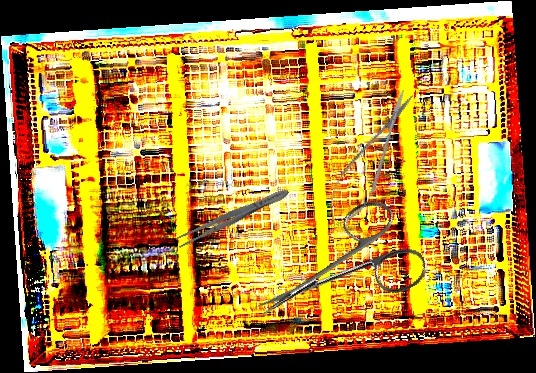Dressing Forceps: (173, 184, 292, 251)
Iris Scissors: (236, 190, 433, 357)
Micro Scissor: (316, 82, 426, 236)
